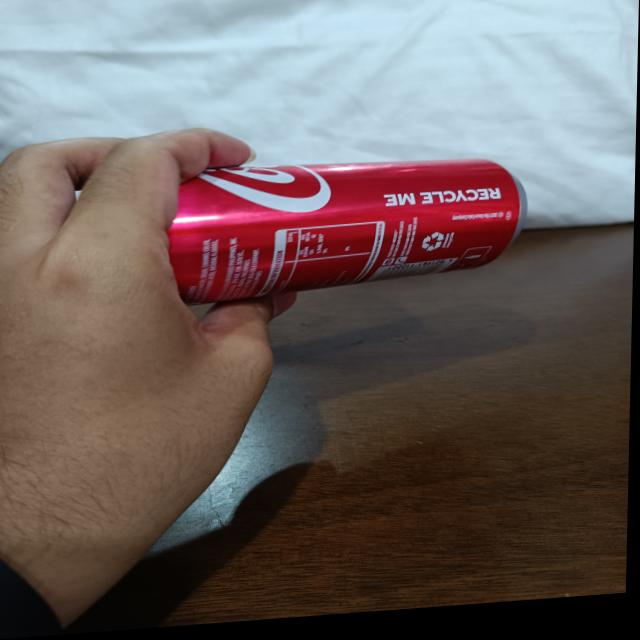coke: (124, 157, 534, 300)
